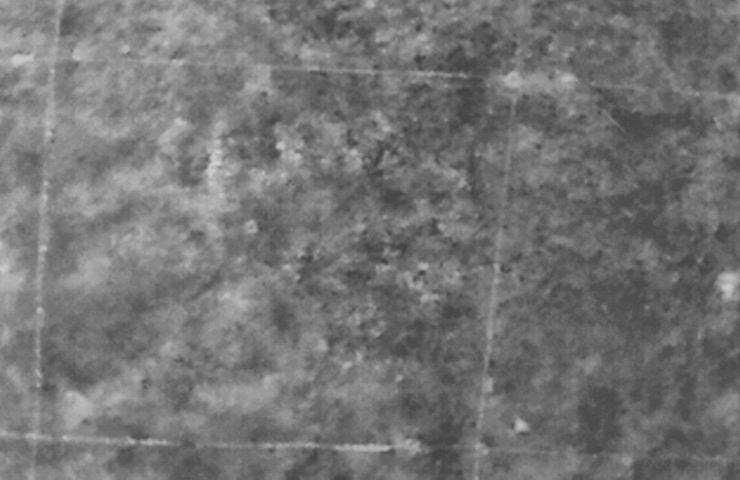landmines: (241, 217, 263, 239)
